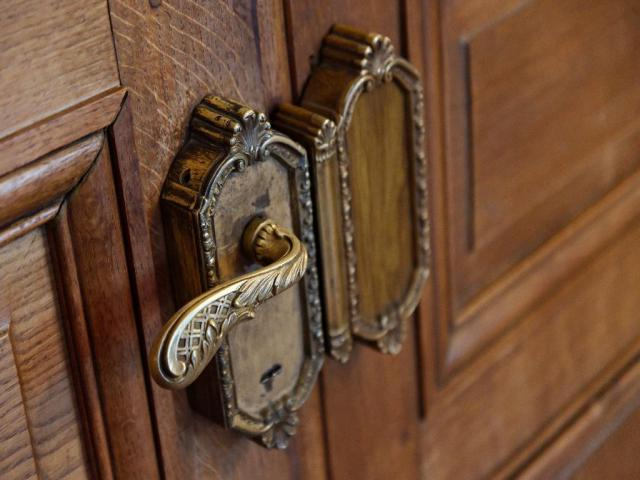Door-handle: (148, 92, 326, 450)
